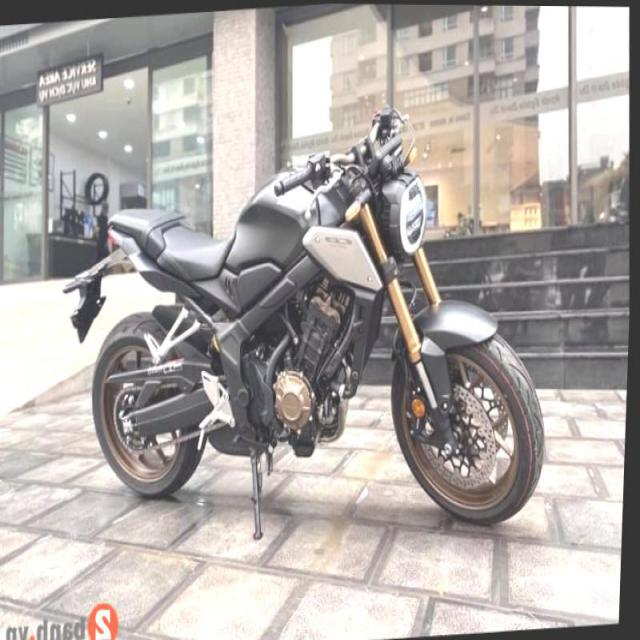CB650R: (78, 118, 562, 550)
